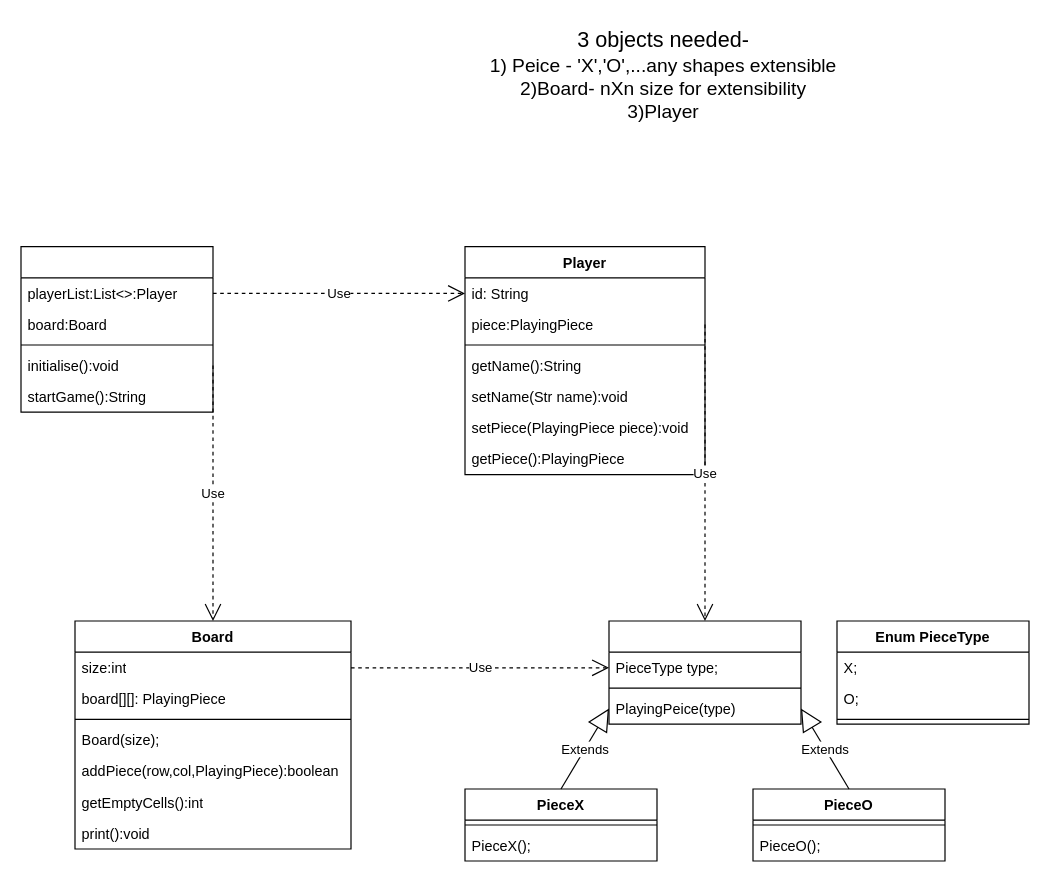
Some shapes in this 1050 by 884 pixel diagram are drawn without their labels. Here are the shapes that lost their labels. From the top down, the box of each, then its label:
(20, 245, 213, 412): Game //main
(608, 620, 801, 724): PlayingPiece
